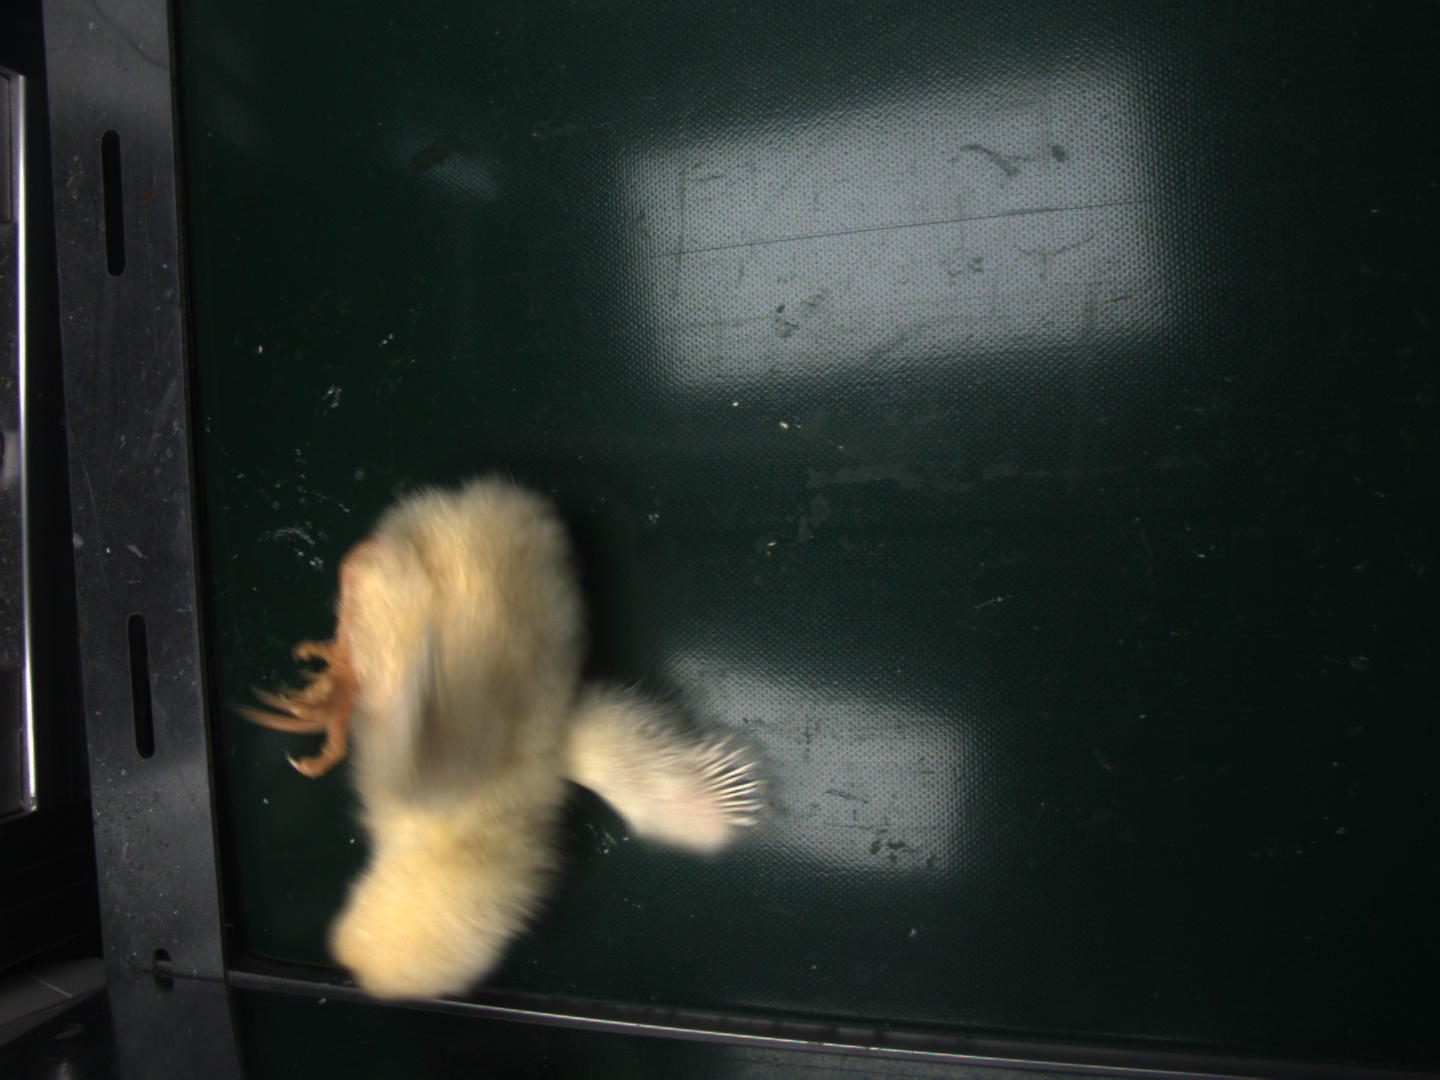male: (693, 745, 770, 835)
